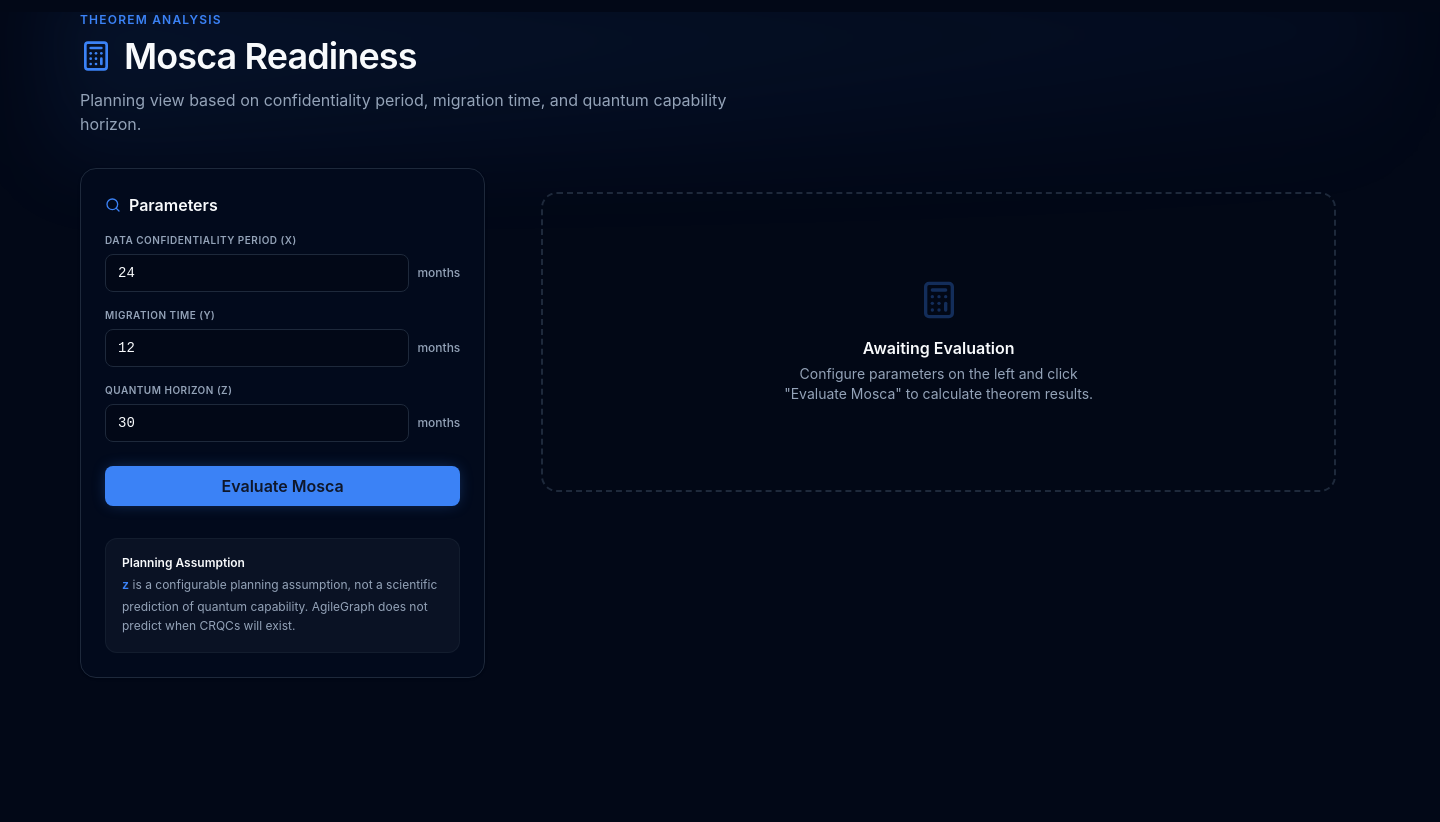
Test: Product Layer Components › MoscaReadiness › 4b. Mosca SAFE status renders successfully with <= operator
Click the button "Evaluate Mosca" at (283, 486), box [105,466,460,506]
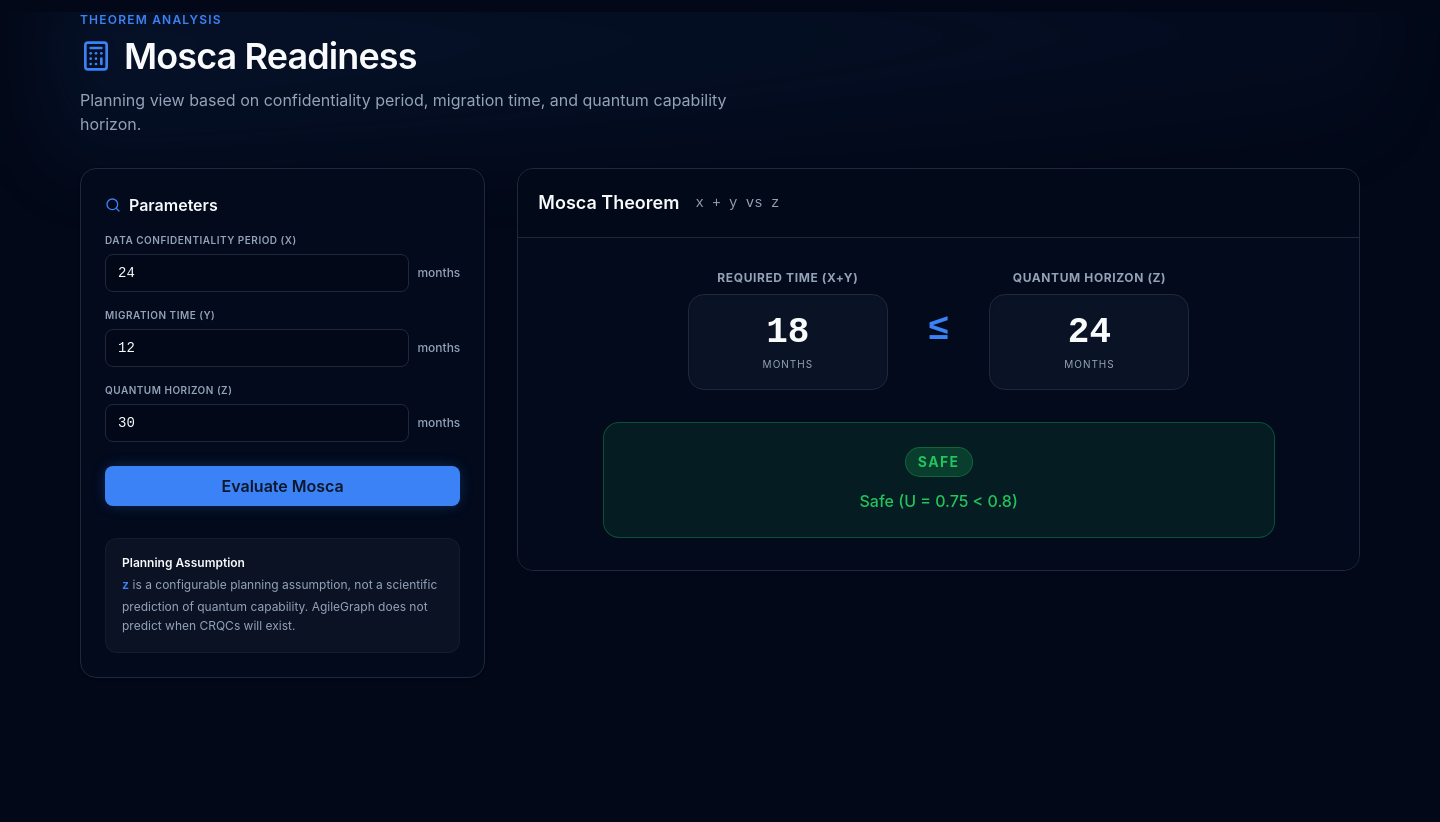
Result: the text "SAFE" is shown at [905,447,972,477]
Result: the text "≤" is shown at [928,309,950,350]
